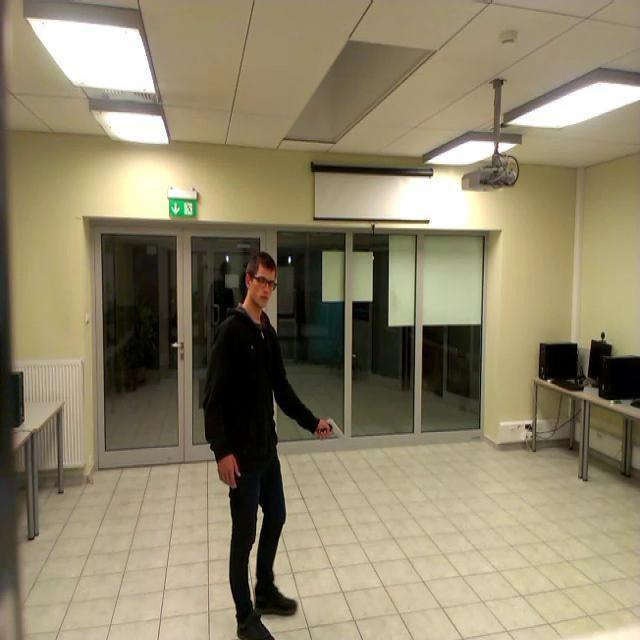weapon: (317, 416, 346, 440)
